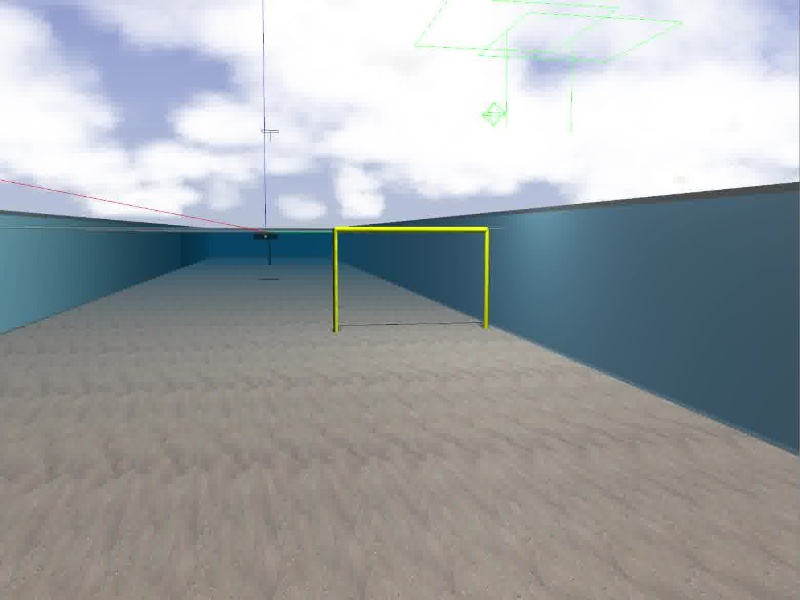gate: (331, 226, 494, 334)
